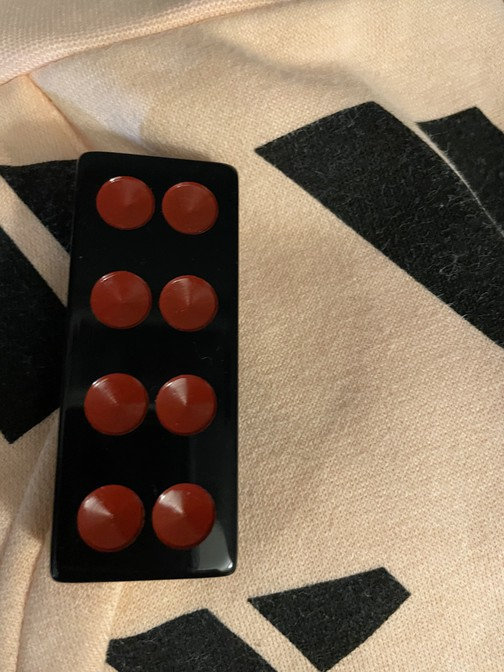man: (53, 151, 239, 581)
